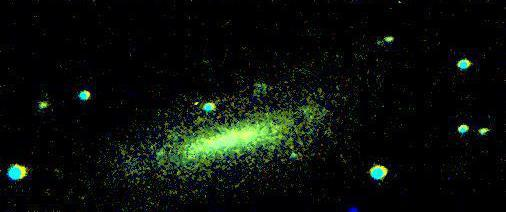star: (28, 94, 58, 124)
